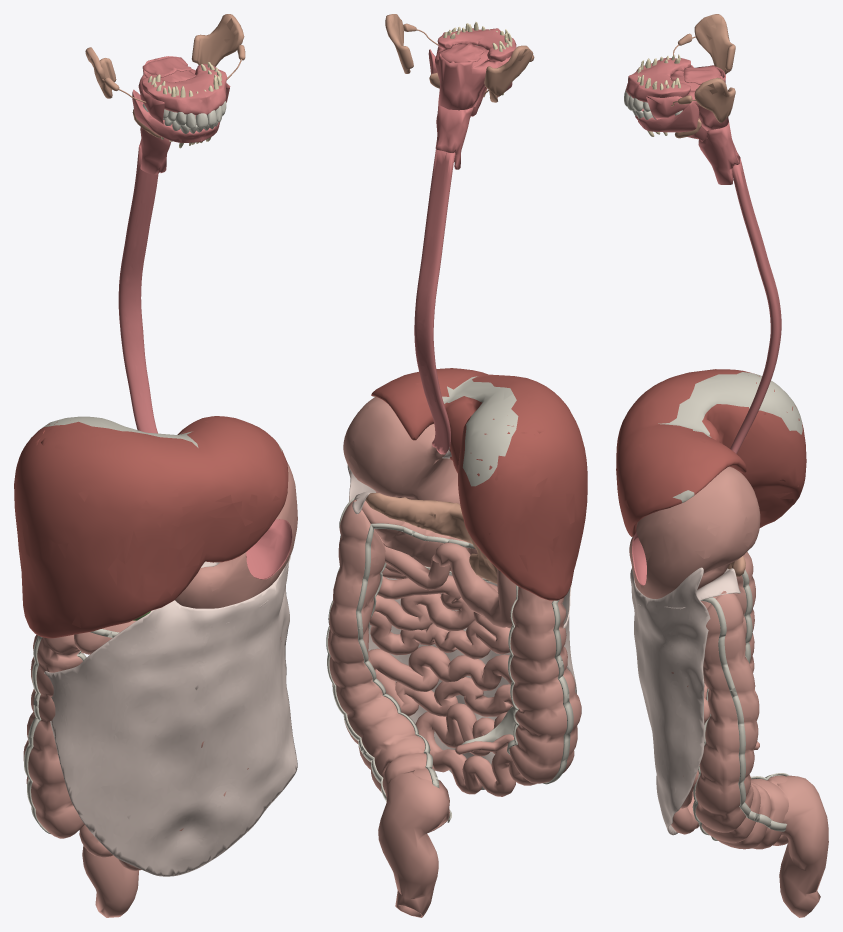
The model's file is adult_male.digestive.LOD1.glb.
The picture shows the model from 3 angles, left to right: view 1: azimuth 30°, elevation 25°; view 2: azimuth 150°, elevation 25°; view 3: azimuth 270°, elevation 25°; orthographic projection. The views are drawn at different scales.
Parts seen in each view (by area): view 1: ADULT.MALE.DIGESTIVE.GREATER_OMENTUM, ADULT.MALE.DIGESTIVE.LIVER, ADULT.MALE.DIGESTIVE.ASCENDING_COLON, ADULT.MALE.DIGESTIVE.OESOPHAGUS, ADULT.MALE.DIGESTIVE.STOMACH, ADULT.MALE.DIGESTIVE.GINGIVA, ADULT.MALE.DIGESTIVE.SIGMOID_COLON, ADULT.MALE.DIGESTIVE.MUCOSA_OF_STOMACH, ADULT.MALE.DIGESTIVE.PAROTID_GLAND.L, ADULT.MALE.DIGESTIVE.MESOCOLIC_TAENIA, ADULT.MALE.DIGESTIVE.LARYNGOPHARYNX, ADULT.MALE.DIGESTIVE.SOFT_PALATE (+4 smaller); view 2: ADULT.MALE.DIGESTIVE.LIVER, ADULT.MALE.DIGESTIVE.JEJUNUM, ADULT.MALE.DIGESTIVE.DESCENDING_COLON, ADULT.MALE.DIGESTIVE.ASCENDING_COLON, ADULT.MALE.DIGESTIVE.STOMACH, ADULT.MALE.DIGESTIVE.SIGMOID_COLON, ADULT.MALE.DIGESTIVE.OESOPHAGUS, ADULT.MALE.DIGESTIVE.PANCREAS, ADULT.MALE.DIGESTIVE.DUODENUM, ADULT.MALE.DIGESTIVE.FREE_TAENIA, ADULT.MALE.DIGESTIVE.GREATER_OMENTUM, ADULT.MALE.DIGESTIVE.OROPHARYNX (+10 smaller); view 3: ADULT.MALE.DIGESTIVE.LIVER, ADULT.MALE.DIGESTIVE.GREATER_OMENTUM, ADULT.MALE.DIGESTIVE.DESCENDING_COLON, ADULT.MALE.DIGESTIVE.STOMACH, ADULT.MALE.DIGESTIVE.SIGMOID_COLON, ADULT.MALE.DIGESTIVE.OESOPHAGUS, ADULT.MALE.DIGESTIVE.GINGIVA, ADULT.MALE.DIGESTIVE.MESOCOLIC_TAENIA, ADULT.MALE.DIGESTIVE.LARYNGOPHARYNX, ADULT.MALE.DIGESTIVE.PAROTID_GLAND.R, ADULT.MALE.DIGESTIVE.OROPHARYNX, ADULT.MALE.DIGESTIVE.PAROTID_GLAND.L (+6 smaller).
Boxes of the visible parts, bbox=[...] form: ADULT.MALE.DIGESTIVE.GREATER_OMENTUM: bbox=[44, 559, 297, 876]; ADULT.MALE.DIGESTIVE.LIVER: bbox=[14, 416, 288, 638]; ADULT.MALE.DIGESTIVE.ASCENDING_COLON: bbox=[23, 634, 84, 838]; ADULT.MALE.DIGESTIVE.OESOPHAGUS: bbox=[118, 145, 158, 433]; ADULT.MALE.DIGESTIVE.STOMACH: bbox=[175, 463, 297, 608]; ADULT.MALE.DIGESTIVE.GINGIVA: bbox=[132, 64, 227, 142]; ADULT.MALE.DIGESTIVE.SIGMOID_COLON: bbox=[82, 845, 138, 917]; ADULT.MALE.DIGESTIVE.MUCOSA_OF_STOMACH: bbox=[246, 519, 292, 579]; ADULT.MALE.DIGESTIVE.PAROTID_GLAND.L: bbox=[191, 14, 244, 66]; ADULT.MALE.DIGESTIVE.MESOCOLIC_TAENIA: bbox=[24, 629, 119, 833]; ADULT.MALE.DIGESTIVE.LARYNGOPHARYNX: bbox=[139, 127, 170, 174]; ADULT.MALE.DIGESTIVE.SOFT_PALATE: bbox=[142, 57, 196, 82]; ADULT.MALE.DIGESTIVE.LIVER: bbox=[371, 368, 587, 600]; ADULT.MALE.DIGESTIVE.JEJUNUM: bbox=[368, 546, 536, 796]; ADULT.MALE.DIGESTIVE.DESCENDING_COLON: bbox=[328, 500, 449, 832]; ADULT.MALE.DIGESTIVE.ASCENDING_COLON: bbox=[509, 586, 581, 783]; ADULT.MALE.DIGESTIVE.STOMACH: bbox=[343, 397, 460, 504]; ADULT.MALE.DIGESTIVE.SIGMOID_COLON: bbox=[378, 770, 449, 917]; ADULT.MALE.DIGESTIVE.OESOPHAGUS: bbox=[414, 149, 454, 454]; ADULT.MALE.DIGESTIVE.PANCREAS: bbox=[366, 493, 497, 583]; ADULT.MALE.DIGESTIVE.DUODENUM: bbox=[432, 542, 518, 627]; ADULT.MALE.DIGESTIVE.FREE_TAENIA: bbox=[356, 523, 519, 788]; ADULT.MALE.DIGESTIVE.GREATER_OMENTUM: bbox=[347, 465, 576, 789]; ADULT.MALE.DIGESTIVE.OROPHARYNX: bbox=[435, 45, 510, 110]; ADULT.MALE.DIGESTIVE.LIVER: bbox=[616, 369, 806, 536]; ADULT.MALE.DIGESTIVE.GREATER_OMENTUM: bbox=[630, 567, 710, 835]; ADULT.MALE.DIGESTIVE.DESCENDING_COLON: bbox=[695, 591, 788, 849]; ADULT.MALE.DIGESTIVE.STOMACH: bbox=[629, 466, 760, 598]; ADULT.MALE.DIGESTIVE.SIGMOID_COLON: bbox=[777, 775, 828, 917]; ADULT.MALE.DIGESTIVE.OESOPHAGUS: bbox=[730, 158, 781, 453]; ADULT.MALE.DIGESTIVE.GINGIVA: bbox=[626, 57, 699, 132]; ADULT.MALE.DIGESTIVE.MESOCOLIC_TAENIA: bbox=[701, 597, 786, 831]; ADULT.MALE.DIGESTIVE.LARYNGOPHARYNX: bbox=[698, 122, 740, 184]; ADULT.MALE.DIGESTIVE.PAROTID_GLAND.R: bbox=[694, 14, 735, 74]; ADULT.MALE.DIGESTIVE.OROPHARYNX: bbox=[646, 66, 728, 130]; ADULT.MALE.DIGESTIVE.PAROTID_GLAND.L: bbox=[694, 77, 735, 122].
Bounding box in the file's own units: 0.2292 × 0.7726 × 0.1712.
